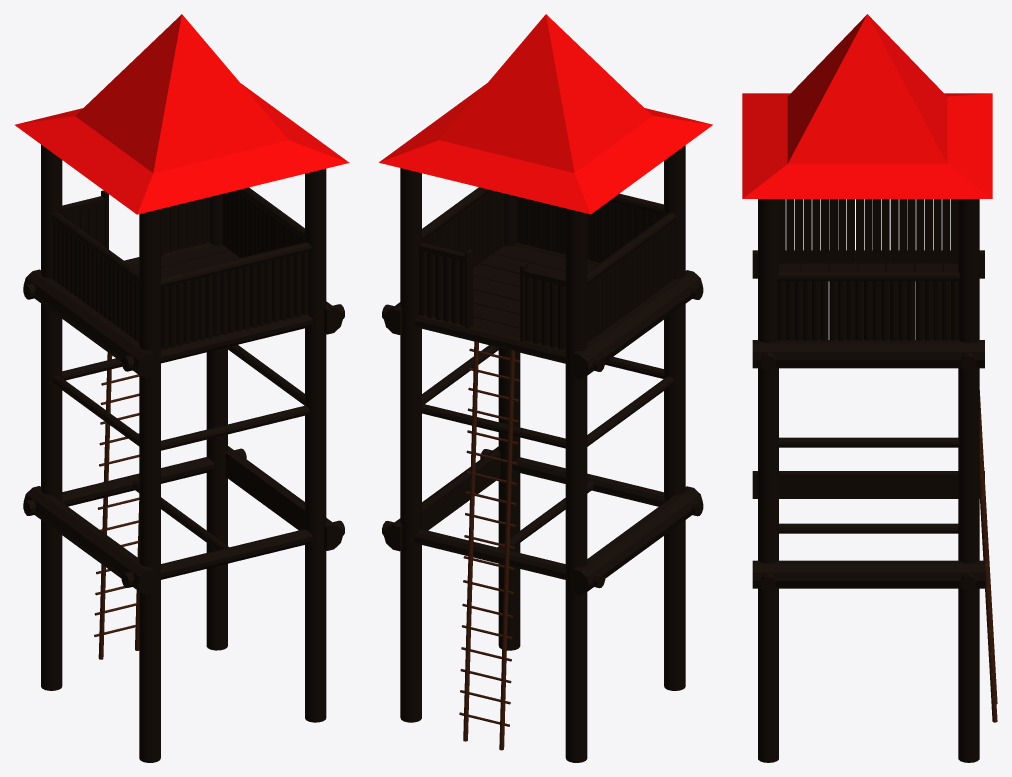
3 views of the same model, side by side, from view 1: azimuth 30°, elevation 25°; view 2: azimuth 150°, elevation 25°; view 3: azimuth 270°, elevation 25° (orthographic).
Visible parts, largest first — view 1: pCylinder55 (×3); view 2: pCylinder55 (×3); view 3: pCylinder55 (×3).
Boxes of the visible parts, x1,y1,x2,y2 form: pCylinder55 (×3): (15,14,349,762); pCylinder55 (×3): (379,14,712,762); pCylinder55 (×3): (742,14,997,762).
Bounding box in the file's own units: 6.2 × 18.81 × 6.19.
